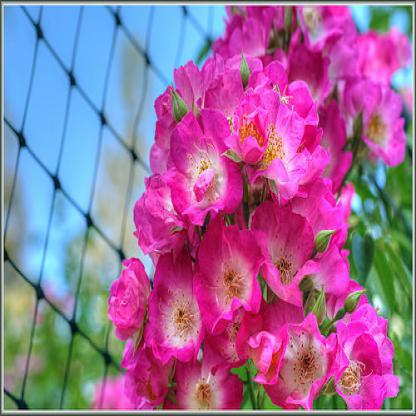Rose-Mawar: (98, 2, 406, 416)
